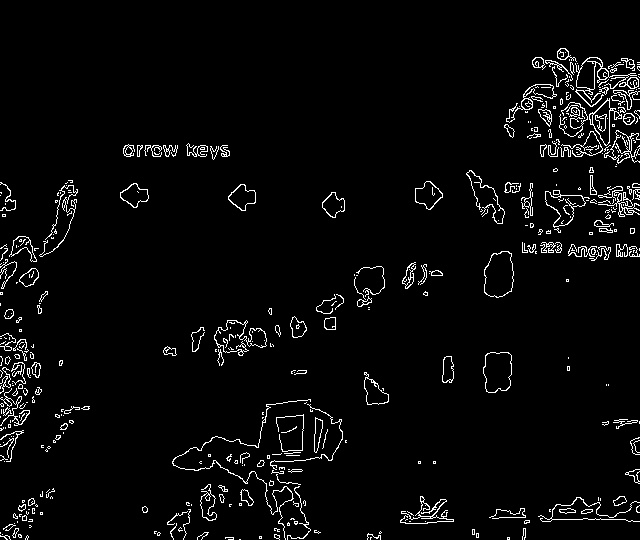left: (310, 185, 358, 229), (220, 179, 267, 222), (111, 177, 161, 216)
right: (407, 177, 449, 217)
